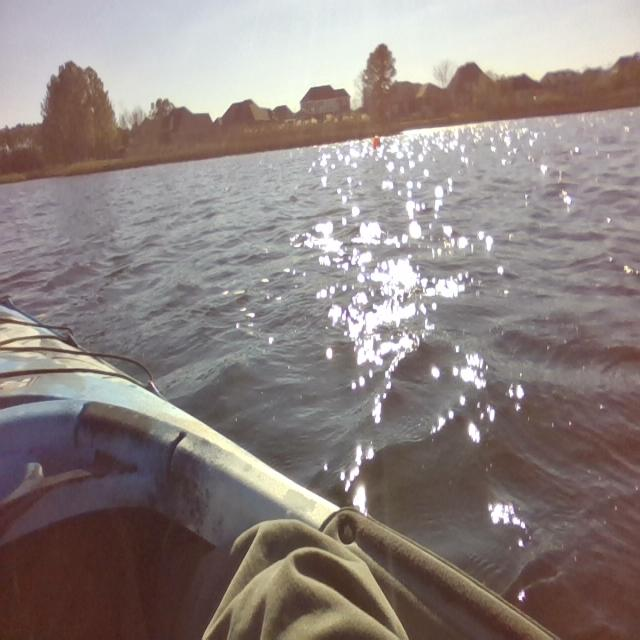Buoy: (366, 134, 384, 154)
